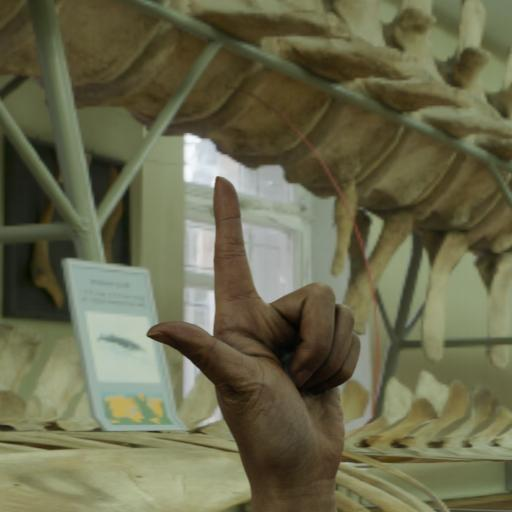L: (124, 154, 389, 488)
